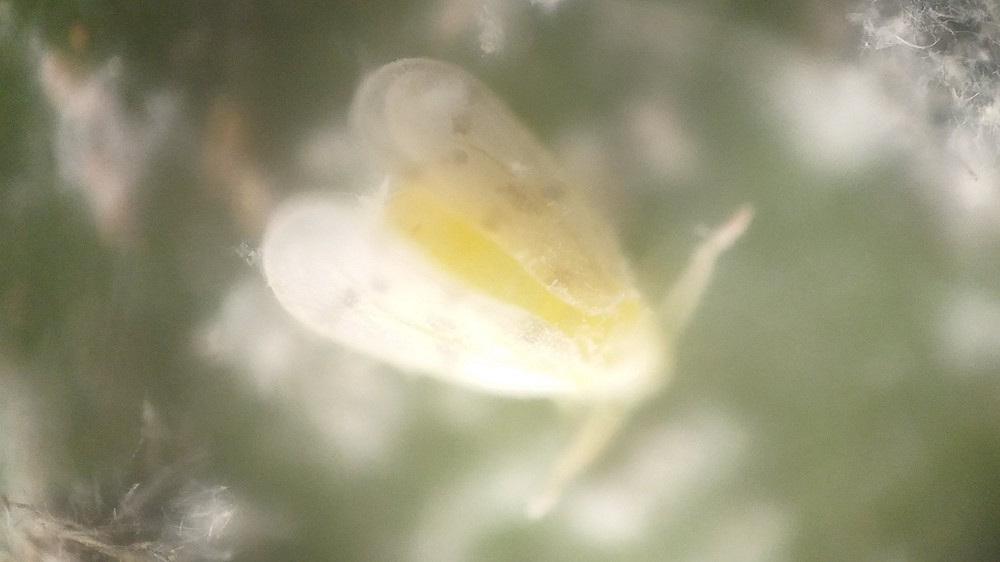Mosca Blanca: (248, 39, 783, 533)
